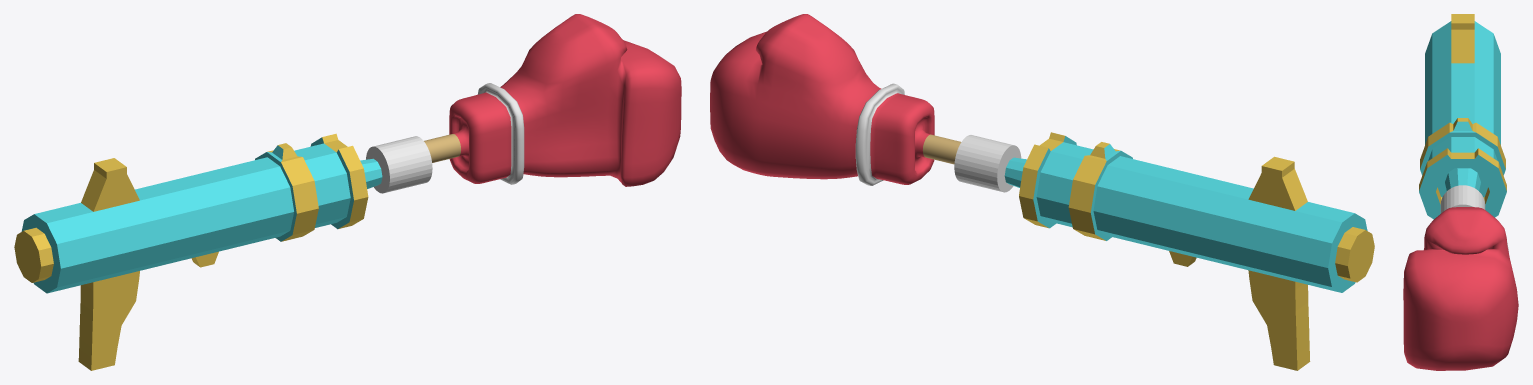
Rendered from GUN_PUNCH_ANI.fbx.
3 views of the same model, side by side, from view 1: azimuth 30°, elevation 25°; view 2: azimuth 150°, elevation 25°; view 3: azimuth 270°, elevation 25° (orthographic). The views are drawn at different scales.
Parts seen in each view (by area): view 1: gun, glove.004, extension; view 2: gun, glove.004, extension; view 3: glove.004, gun, extension.
Part boxes in pixels (box(x1,y1,x2,y2)): gun: box(14, 133, 382, 370); glove.004: box(424, 14, 681, 186); extension: box(366, 136, 432, 193); gun: box(1004, 132, 1374, 370); glove.004: box(710, 14, 961, 185); extension: box(954, 135, 1021, 192); glove.004: box(1403, 207, 1518, 370); gun: box(1419, 14, 1506, 219); extension: box(1440, 185, 1485, 213).
Bounding box in the file's own units: 11.97 × 3.96 × 2.
